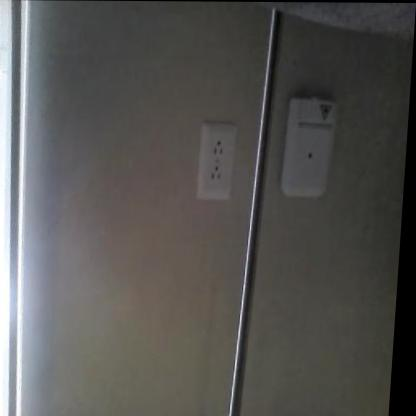OUTLET: (196, 124, 239, 202)
